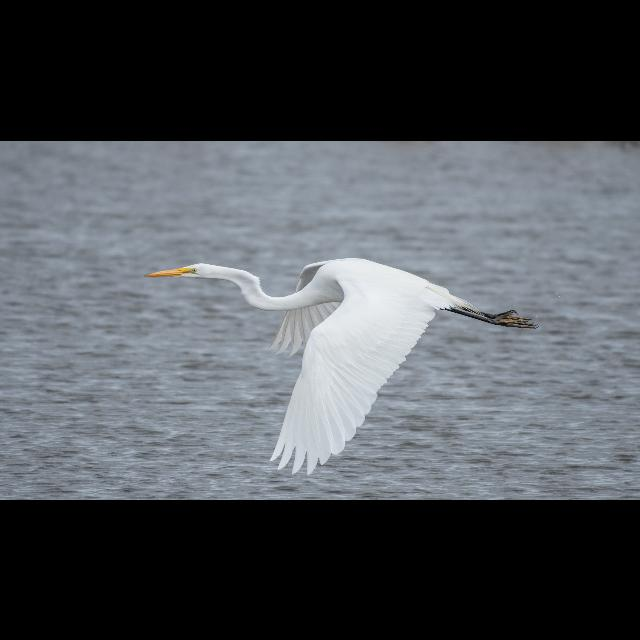egret: (147, 255, 543, 463)
